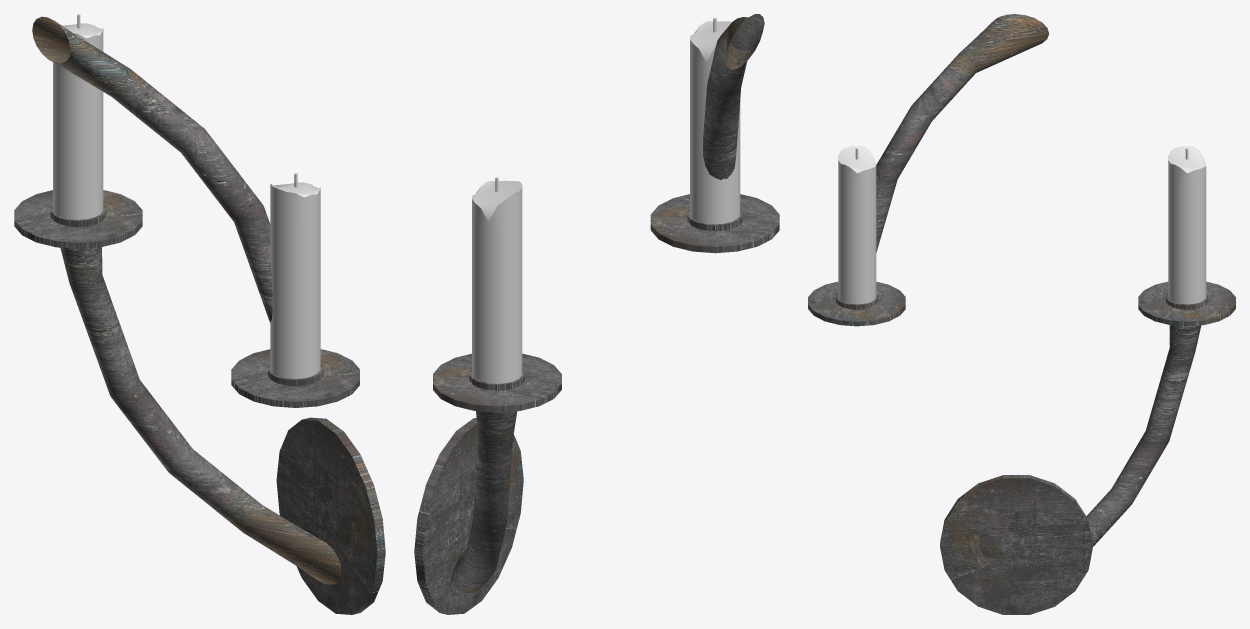
File: DoubleWallCandle.FBX
The picture shows the model from 3 angles, left to right: view 1: azimuth 30°, elevation 25°; view 2: azimuth 150°, elevation 25°; view 3: azimuth 270°, elevation 25°; orthographic projection. The views are drawn at different scales.
Parts seen in each view (by area): view 1: Tube001, Cylinder004, Tube002, Cylinder007, Cylinder001, Cylinder005, Cylinder003; view 2: Cylinder004, Cylinder001, Tube001, Tube002, Cylinder007, Cylinder005, Cylinder003; view 3: Cylinder004, Tube002, Tube001, Cylinder001, Cylinder007, Cylinder003, Cylinder005.
Part boxes in pixels (left/top/right/bottom): Tube001: left=60, top=247, right=341, bottom=584; Cylinder004: left=276, top=417, right=385, bottom=614; Tube002: left=32, top=16, right=272, bottom=322; Cylinder007: left=270, top=182, right=320, bottom=378; Cylinder001: left=53, top=23, right=103, bottom=219; Cylinder005: left=231, top=349, right=359, bottom=407; Cylinder003: left=14, top=190, right=142, bottom=248; Cylinder004: left=414, top=418, right=523, bottom=614; Cylinder001: left=472, top=180, right=522, bottom=383; Tube001: left=449, top=411, right=517, bottom=595; Tube002: left=703, top=14, right=764, bottom=179; Cylinder007: left=690, top=21, right=740, bottom=224; Cylinder005: left=650, top=194, right=779, bottom=253; Cylinder003: left=433, top=353, right=561, bottom=412; Cylinder004: left=940, top=475, right=1093, bottom=614; Tube002: left=876, top=14, right=1048, bottom=252; Tube001: left=1086, top=325, right=1201, bottom=546; Cylinder001: left=1168, top=146, right=1206, bottom=304; Cylinder007: left=838, top=146, right=876, bottom=304; Cylinder003: left=1138, top=281, right=1235, bottom=326; Cylinder005: left=808, top=281, right=905, bottom=326.
Bounding box in the file's own units: 7.49 × 16.6 × 12.95.
1 material, 1 textured.
